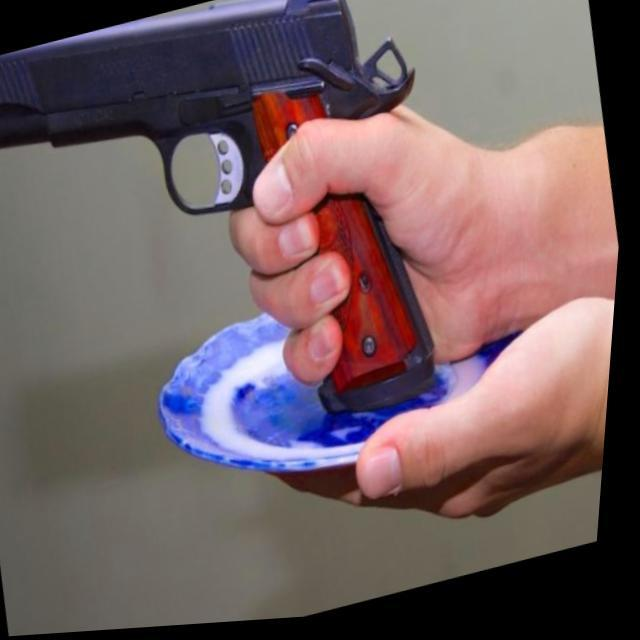weapon: (0, 0, 487, 510)
